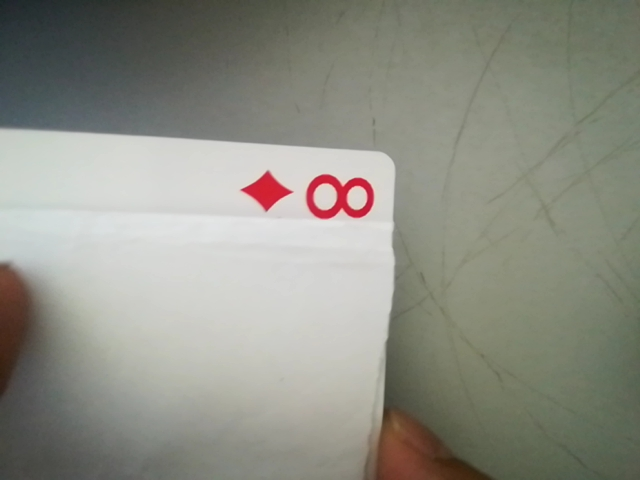fk 8: (253, 163, 390, 228)
